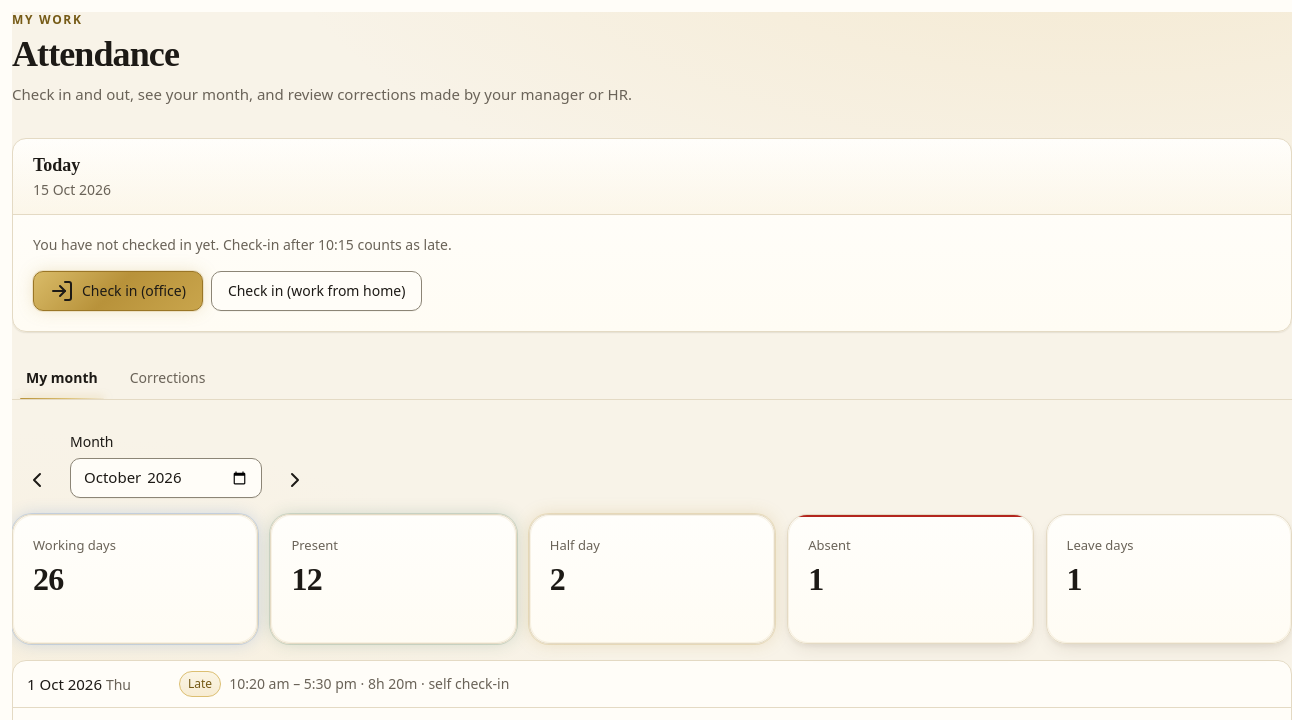
Test: AttendancePage › shows the server error when check-in is refused (never claims success)
Click the button "Check in (office)".
click(118, 291)  # box [33,271,203,311]
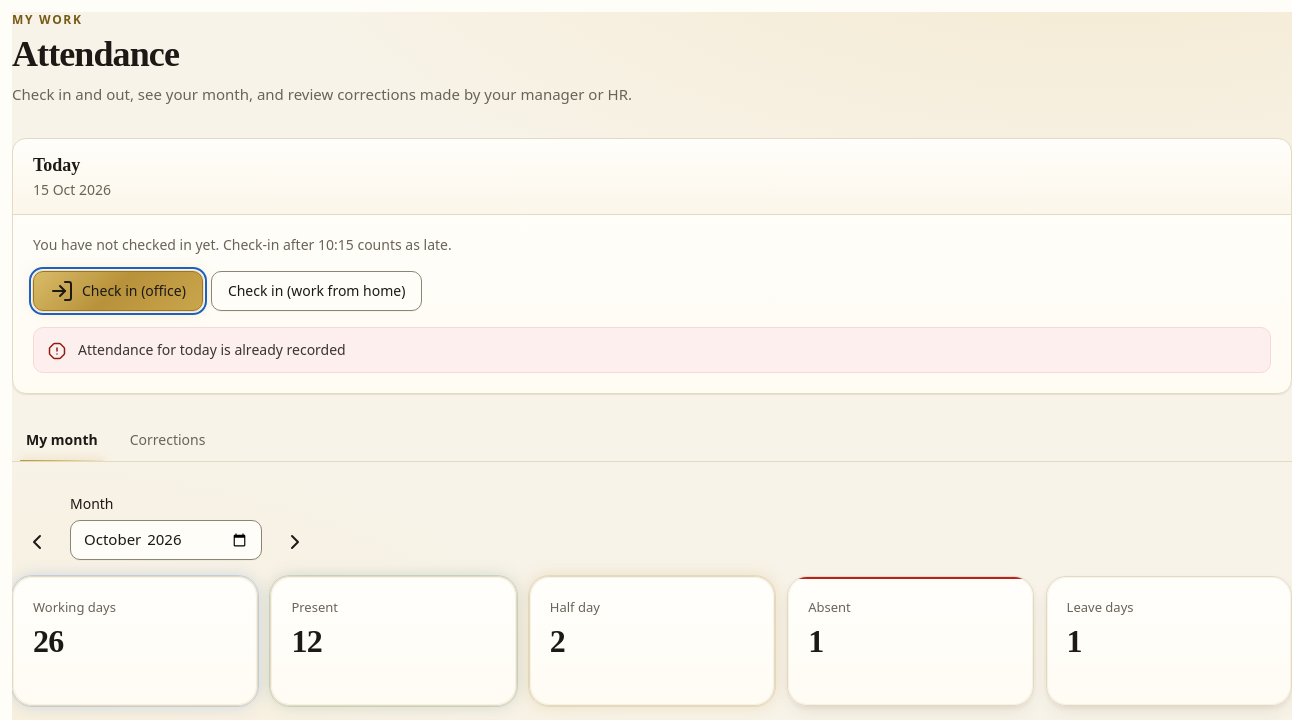
expect the text "Attendance for today is already recorded" is shown: met, box [78,340,346,359]
